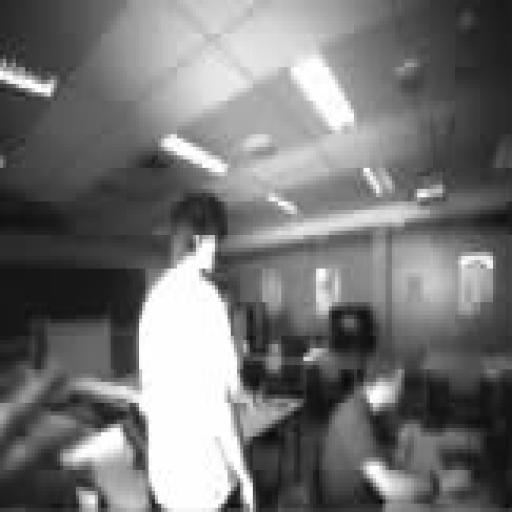human: (140, 194, 255, 511), (317, 361, 439, 511)
